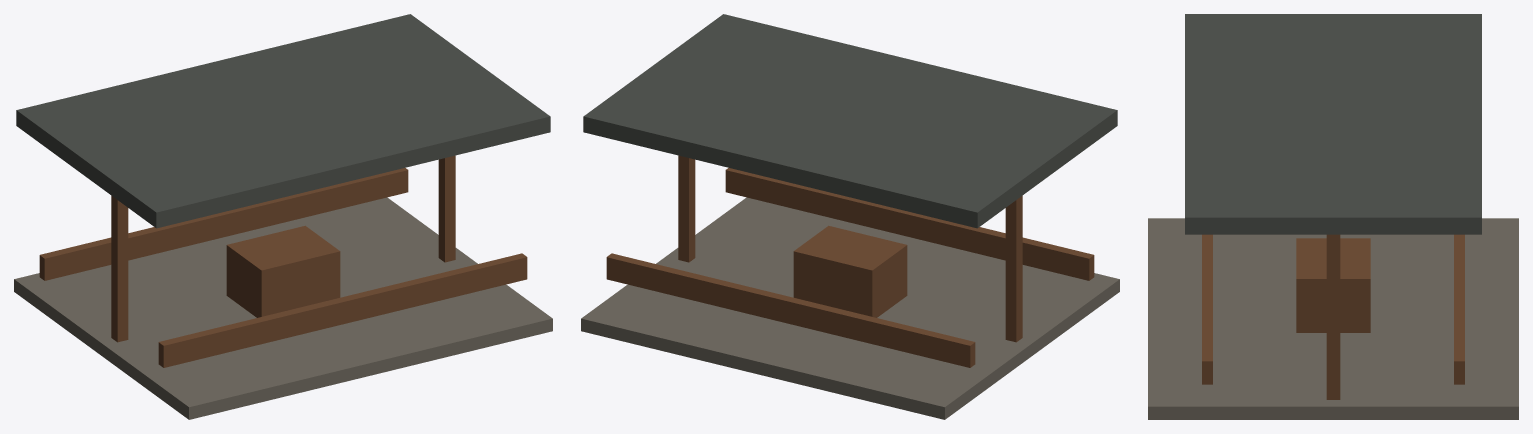
File: auction-barn.source.glb
3 views of the same model, side by side, from view 1: azimuth 30°, elevation 25°; view 2: azimuth 150°, elevation 25°; view 3: azimuth 270°, elevation 25° (orthographic). The views are drawn at different scales.
Parts seen in each view (by area): view 1: auction-barn-roof-mesh, auction-barn-yard-mesh, auction-barn-rail-1.7-mesh, auction-barn-rail--1.7-mesh, auction-barn-stand-mesh, auction-barn-post--2.7-mesh, auction-barn-post-2.7-mesh; view 2: auction-barn-roof-mesh, auction-barn-yard-mesh, auction-barn-rail--1.7-mesh, auction-barn-rail-1.7-mesh, auction-barn-stand-mesh, auction-barn-post--2.7-mesh, auction-barn-post-2.7-mesh; view 3: auction-barn-roof-mesh, auction-barn-yard-mesh, auction-barn-stand-mesh, auction-barn-post-2.7-mesh, auction-barn-rail--1.7-mesh, auction-barn-rail-1.7-mesh.
Part boxes in pixels (x1=…): auction-barn-roof-mesh: x1=16, y1=14, x2=550, y2=228; auction-barn-yard-mesh: x1=14, y1=197, x2=552, y2=419; auction-barn-rail-1.7-mesh: x1=158, y1=253, x2=527, y2=367; auction-barn-rail--1.7-mesh: x1=39, y1=168, x2=408, y2=280; auction-barn-stand-mesh: x1=226, y1=225, x2=340, y2=317; auction-barn-post--2.7-mesh: x1=111, y1=195, x2=128, y2=342; auction-barn-post-2.7-mesh: x1=438, y1=155, x2=455, y2=262; auction-barn-roof-mesh: x1=583, y1=14, x2=1117, y2=228; auction-barn-yard-mesh: x1=581, y1=197, x2=1119, y2=419; auction-barn-rail--1.7-mesh: x1=606, y1=253, x2=975, y2=367; auction-barn-rail-1.7-mesh: x1=725, y1=168, x2=1094, y2=280; auction-barn-stand-mesh: x1=793, y1=225, x2=907, y2=317; auction-barn-post--2.7-mesh: x1=1005, y1=195, x2=1022, y2=342; auction-barn-post-2.7-mesh: x1=678, y1=155, x2=695, y2=262; auction-barn-roof-mesh: x1=1185, y1=14, x2=1481, y2=234; auction-barn-yard-mesh: x1=1148, y1=218, x2=1518, y2=419; auction-barn-stand-mesh: x1=1296, y1=238, x2=1370, y2=332; auction-barn-post-2.7-mesh: x1=1326, y1=234, x2=1340, y2=399; auction-barn-rail--1.7-mesh: x1=1454, y1=234, x2=1464, y2=384; auction-barn-rail-1.7-mesh: x1=1202, y1=234, x2=1212, y2=384.
Bounding box in the file's own units: 6.5 × 3.13 × 5.
